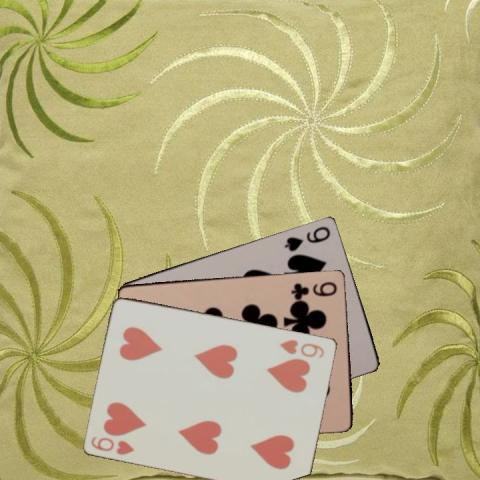6h: (277, 336, 326, 359), (88, 433, 136, 456)
9c: (288, 279, 338, 297)
9s: (281, 222, 332, 253)
